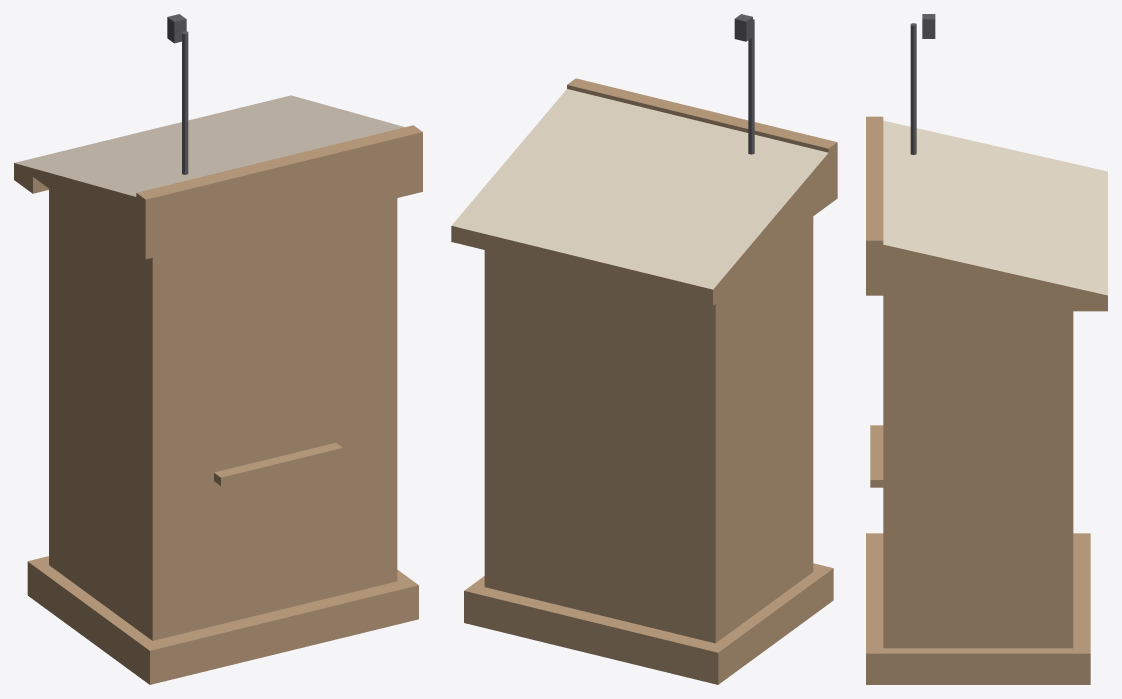
The model's file is Lectern.fbx.
The picture shows the model from 3 angles, left to right: view 1: azimuth 30°, elevation 25°; view 2: azimuth 150°, elevation 25°; view 3: azimuth 270°, elevation 25°; orthographic projection. The views are drawn at different scales.
Visible parts, largest first — view 1: Lectern; view 2: Lectern; view 3: Lectern.
Boxes of the visible parts, bbox=[...] form: Lectern: bbox=[14, 14, 422, 684]; Lectern: bbox=[451, 14, 837, 684]; Lectern: bbox=[866, 14, 1107, 684].
Size of the model in its own units: 0.68 by 1.47 by 0.56.
